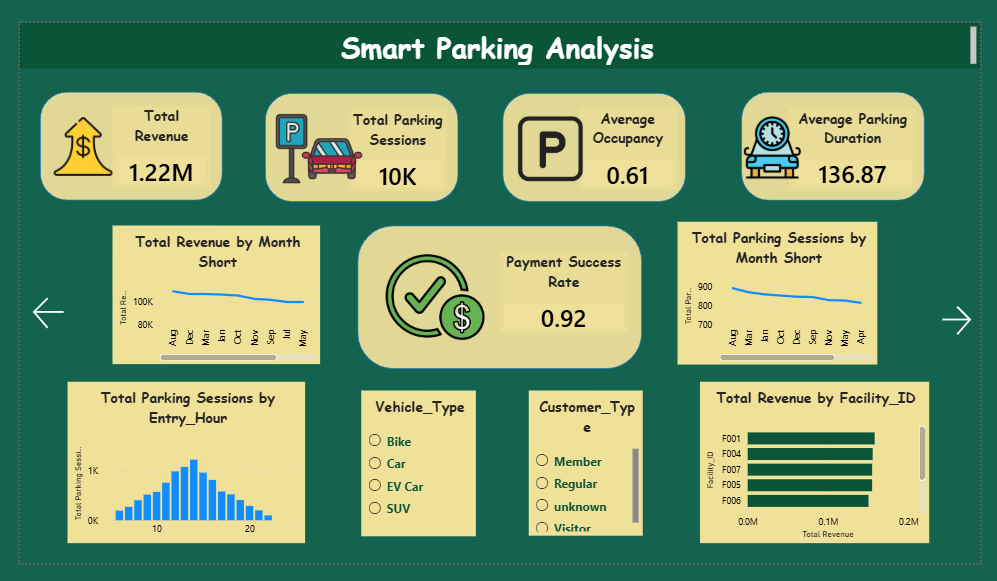

What the dashboard file says about the page in this screenshot:
{"tool":"powerbi","page":{"name":"Introduction","canvas":[1280,720],"ordinal":0},"visuals":[{"type":"shape","box":[26.7,91.9,243.5,144.9],"z":0},{"type":"textbox","box":[0,0,1280.3,60.8],"z":1000},{"type":"image","box":[44.5,35.6,78.5,259.3],"z":2000},{"type":"cardVisual","title":"Total Revenue","fields":{"Data":["Smartparking analysis.Total Revenue"]},"box":[123,109.7,130.8,108.8],"z":3000},{"type":"shape","box":[326,93.4,257.8,145.2],"z":4000},{"type":"cardVisual","title":"Total Parking Sessions","fields":{"Data":["Smartparking analysis.Total Parking Sessions"]},"box":[438.6,115.6,130.8,108.8],"z":5000},{"type":"shape","box":[643.1,93.4,244.5,145.1],"z":6000},{"type":"cardVisual","title":"Average Occupancy","fields":{"Data":["Smartparking analysis.Average Occupancy"]},"box":[745.4,112.6,130.8,108.8],"z":7000},{"type":"image","box":[326,109.7,143.7,115.6],"z":8000},{"type":"image","box":[629.8,121.5,154.1,91.9],"z":9000},{"type":"shape","box":[961.7,91.9,244.5,145.1],"z":10000},{"type":"shape","box":[450.5,269.7,379.3,191.2],"z":11000},{"type":"cardVisual","title":"Average Parking Duration","fields":{"Data":["Smartparking analysis.Average Parking Duration"]},"box":[1025.4,112.6,170.4,108.2],"z":12000},{"type":"cardVisual","title":"Payment Success Rate","fields":{"Data":["Smartparking analysis.Payment Success Rate"]},"box":[640.2,305.3,170.4,108.2],"z":13000},{"type":"image","box":[926.1,120,152.6,91.9],"z":14000},{"type":"image","box":[446,308.2,213.4,114.1],"z":15000},{"type":"lineChart","fields":{"Category":["Dim_Date.Month Short"],"Y":["Smartparking analysis.Total Revenue"]},"box":[123.3,270,276.7,185],"z":16000},{"type":"lineChart","fields":{"Category":["Dim_Date.Month Short"],"Y":["Smartparking analysis.Total Parking Sessions"]},"box":[876.7,265,266.7,190],"z":17000},{"type":"clusteredBarChart","fields":{"Category":["Smartparking analysis.Facility_ID"],"Y":["Smartparking analysis.Total Revenue"]},"box":[906.9,478.6,305.3,214.9],"z":18000},{"type":"columnChart","fields":{"Category":["Smartparking analysis.Entry_Hour"],"Y":["Smartparking analysis.Total Parking Sessions"]},"box":[63.7,478.6,317.1,214.9],"z":19000},{"type":"listSlicer","fields":{"Values":["Smartparking analysis.Vehicle_Type"]},"box":[455,490,152.6,194.1],"z":20000},{"type":"listSlicer","fields":{"Values":["Smartparking analysis.Customer_Type"]},"box":[678.3,490,151.7,193.3],"z":21000},{"type":"actionButton","box":[1223.3,371.7,56.7,50],"z":21001},{"type":"actionButton","box":[11.7,360,71.7,53.3],"z":21002}]}

Visuals, with their boxes on the page's 1280x720 design canvas (x1, y1, x2, y2). These are canvas units, not pixel positions in the 997x581 screenshot, which may show the page scaled, cropped or inside an application window:
shape: bbox=(27, 92, 270, 237)
textbox: bbox=(0, 0, 1280, 61)
image: bbox=(44, 36, 123, 295)
"Total Revenue" cardVisual: bbox=(123, 110, 254, 218)
shape: bbox=(326, 93, 584, 239)
"Total Parking Sessions" cardVisual: bbox=(439, 116, 569, 224)
shape: bbox=(643, 93, 888, 238)
"Average Occupancy" cardVisual: bbox=(745, 113, 876, 221)
image: bbox=(326, 110, 470, 225)
image: bbox=(630, 122, 784, 213)
shape: bbox=(962, 92, 1206, 237)
shape: bbox=(450, 270, 830, 461)
"Average Parking Duration" cardVisual: bbox=(1025, 113, 1196, 221)
"Payment Success Rate" cardVisual: bbox=(640, 305, 811, 414)
image: bbox=(926, 120, 1079, 212)
image: bbox=(446, 308, 659, 422)
lineChart - Dim_Date.Month Short x Smartparking analysis.Total Revenue: bbox=(123, 270, 400, 455)
lineChart - Dim_Date.Month Short x Smartparking analysis.Total Parking Sessions: bbox=(877, 265, 1143, 455)
clusteredBarChart - Smartparking analysis.Facility_ID x Smartparking analysis.Total Revenue: bbox=(907, 479, 1212, 694)
columnChart - Smartparking analysis.Entry_Hour x Smartparking analysis.Total Parking Sessions: bbox=(64, 479, 381, 694)
listSlicer - Smartparking analysis.Vehicle_Type: bbox=(455, 490, 608, 684)
listSlicer - Smartparking analysis.Customer_Type: bbox=(678, 490, 830, 683)
actionButton: bbox=(1223, 372, 1280, 422)
actionButton: bbox=(12, 360, 83, 413)
